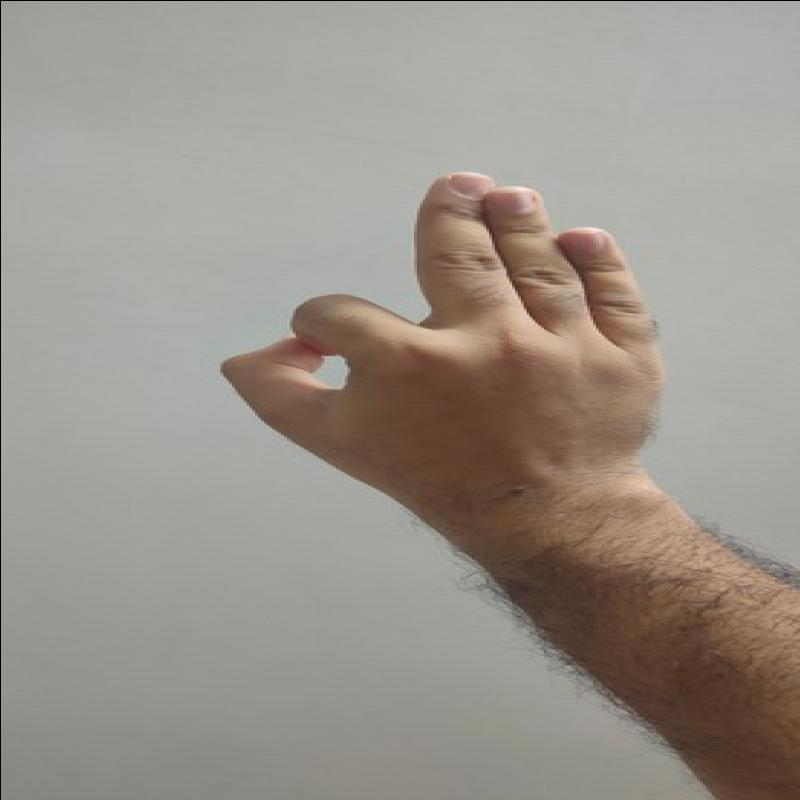Mudraakhyam: (212, 164, 682, 530)
